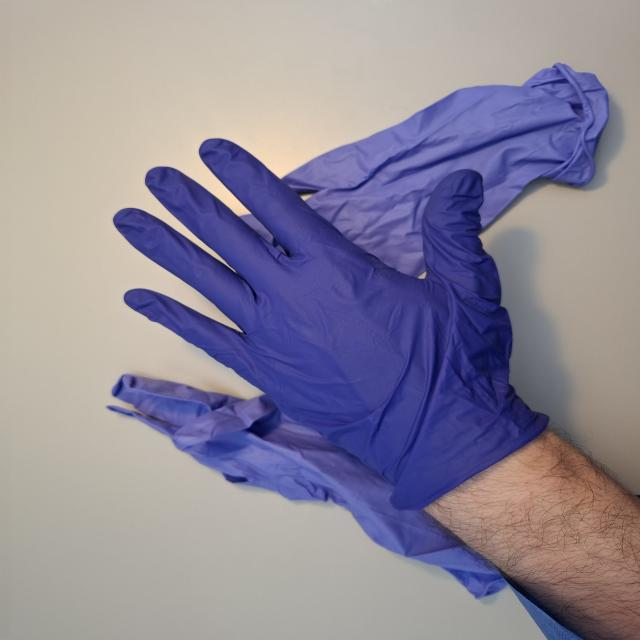glove_on: (110, 135, 534, 509)
